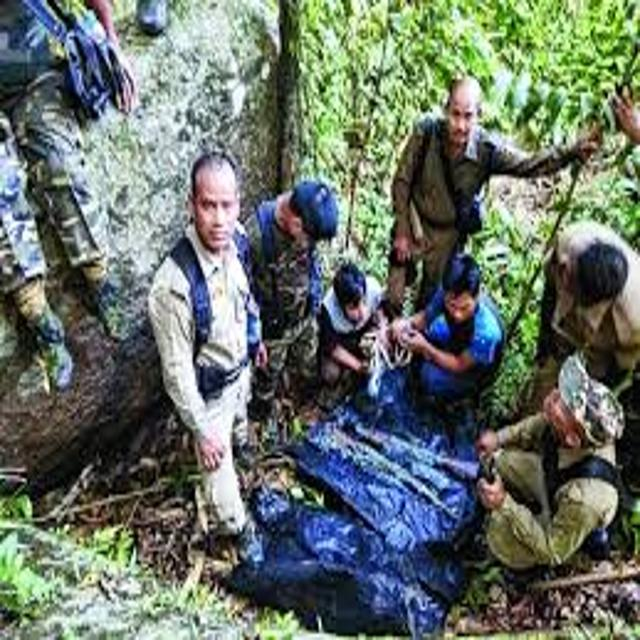gun: (303, 404, 494, 538), (254, 430, 418, 572)
poacher: (131, 132, 308, 588), (361, 44, 601, 341), (439, 345, 640, 583), (212, 147, 360, 463), (512, 196, 640, 454), (382, 236, 523, 424), (286, 241, 416, 430)
